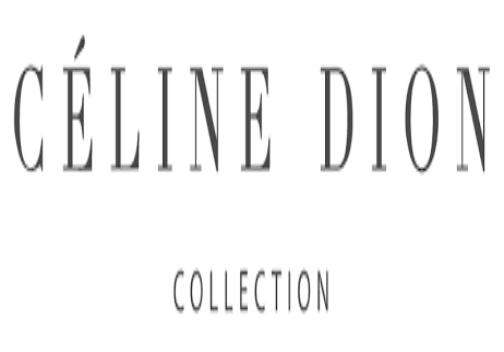CELINE: (9, 6, 279, 213)
